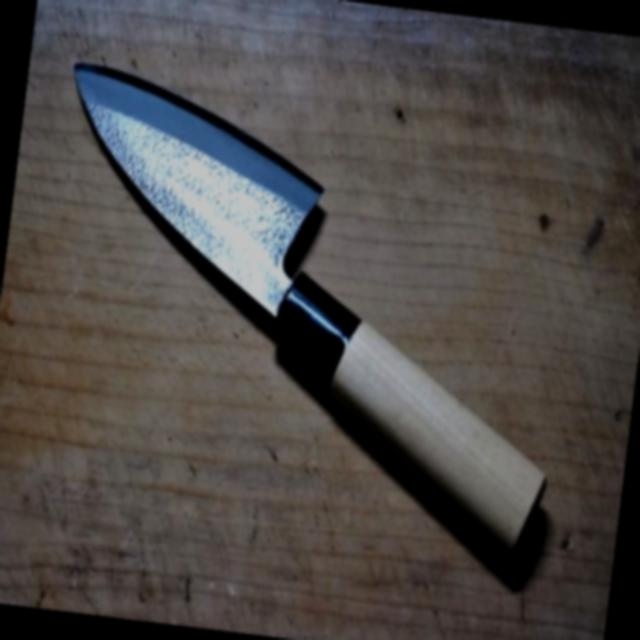knife: (14, 43, 604, 586)
